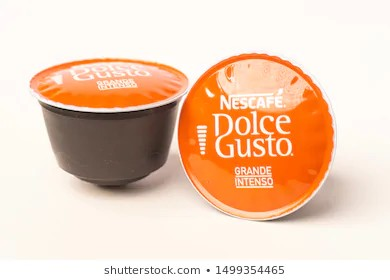nescafe-dolce: (177, 43, 335, 230), (27, 53, 183, 187)
